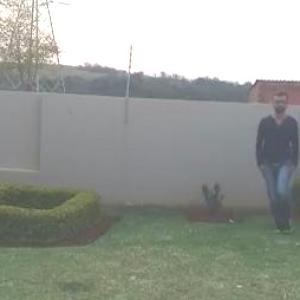follow: (243, 93, 299, 222)
